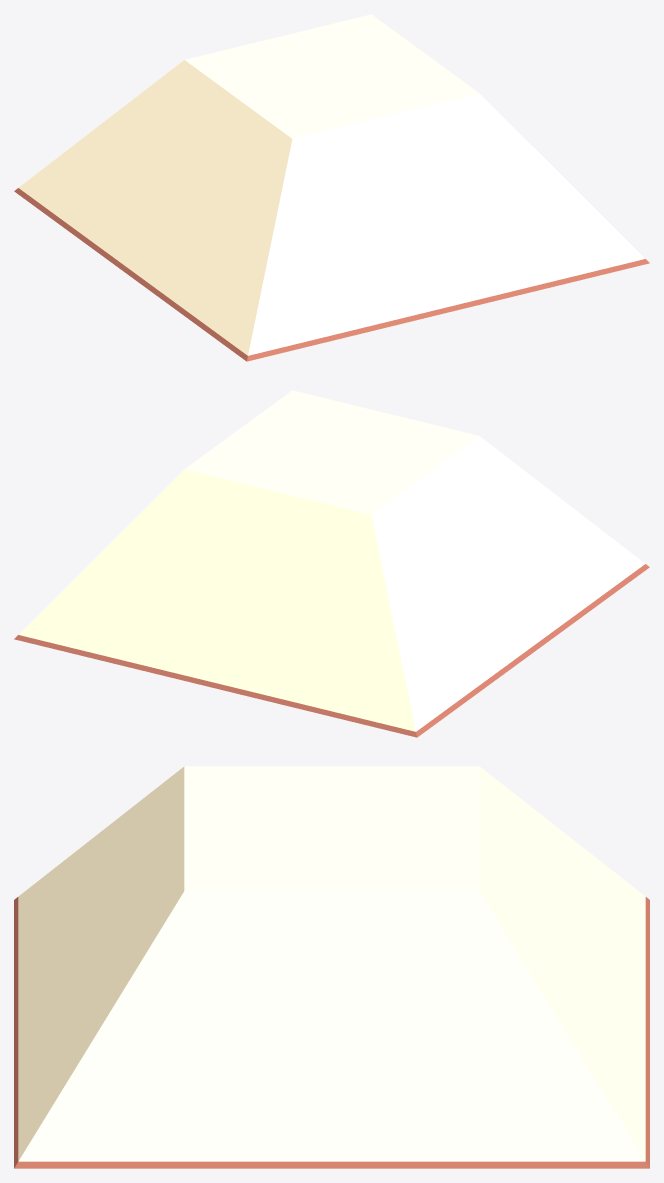
The model's file is giza-khafre-b90.glb.
3 views of the same model, one above another, from view 1: azimuth 30°, elevation 25°; view 2: azimuth 150°, elevation 25°; view 3: azimuth 270°, elevation 25° (orthographic). The views are drawn at different scales.
Bounding box in the file's own units: 215 × 76.86 × 215.
